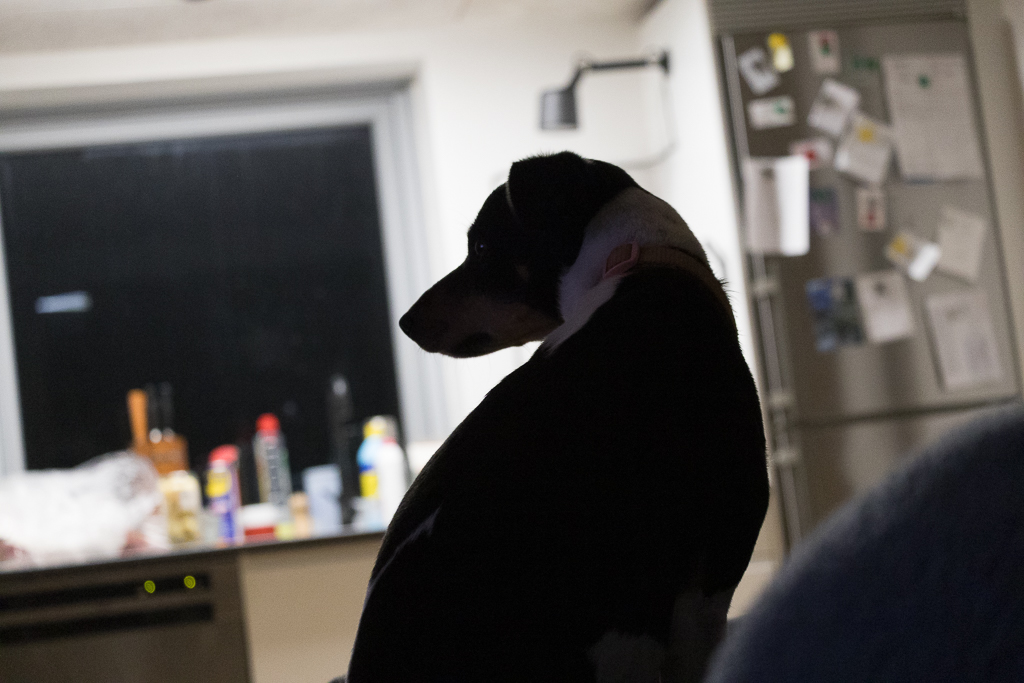Dog: (337, 145, 780, 683)
